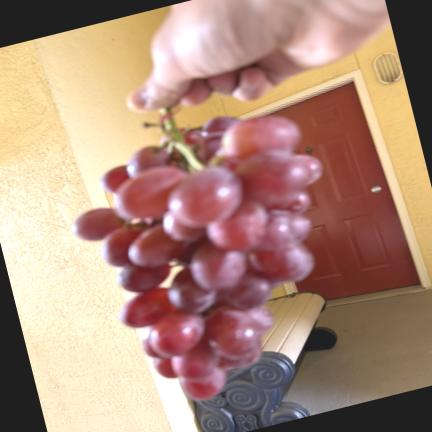grape_cluster: (72, 108, 322, 400)
